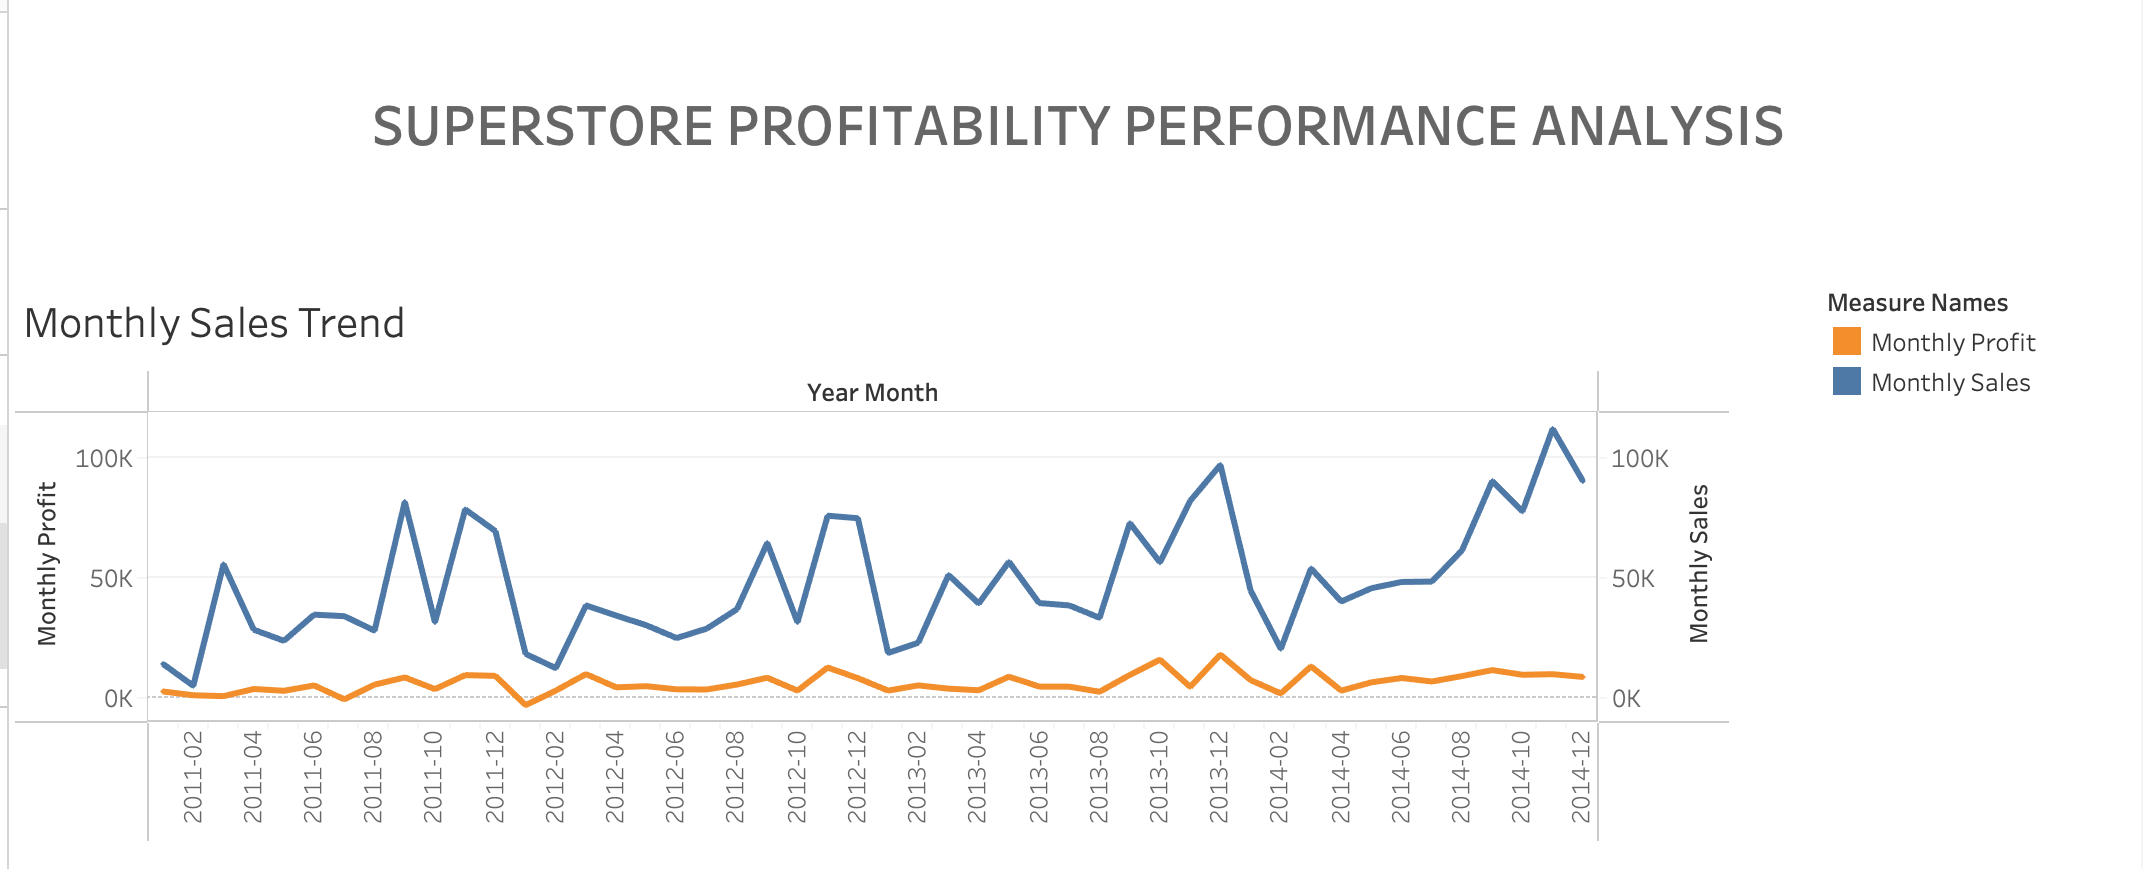

This screenshot's page, from the dashboard's own definition file:
{"tool":"tableau","page":{"name":"Dashboard 3","canvas":[1000,1000],"units":"permille","ordinal":2},"visuals":[{"type":"text","box":[7.5,9,988.8,233.5]},{"type":"worksheet","title":"Monthly Sales Trend","mark":"Line","rows":["monthly_profit","monthly_sales"],"cols":["year_month"],"box":[2.8,247,804.9,417.7]},{"type":"legend","title":"Monthly Sales Trend","param":"[federated.0cty6uq11zamy912c40o40i5xjyw].[:Measure Names]","box":[852.7,247,131.3,86.8]}]}

Visuals, with their boxes on the dashboard's canvas, which has no fixed pixel size, in thousandths of its width and height (x1, y1, x2, y2). These are canvas units, not pixel positions in the 2143x869 screenshot, which may show the page scaled, cropped or inside an application window:
text: pyautogui.locateOnScreen(8, 9, 996, 242)
"Monthly Sales Trend" worksheet (Line marks): pyautogui.locateOnScreen(3, 247, 808, 665)
"Monthly Sales Trend" legend: pyautogui.locateOnScreen(853, 247, 984, 334)
